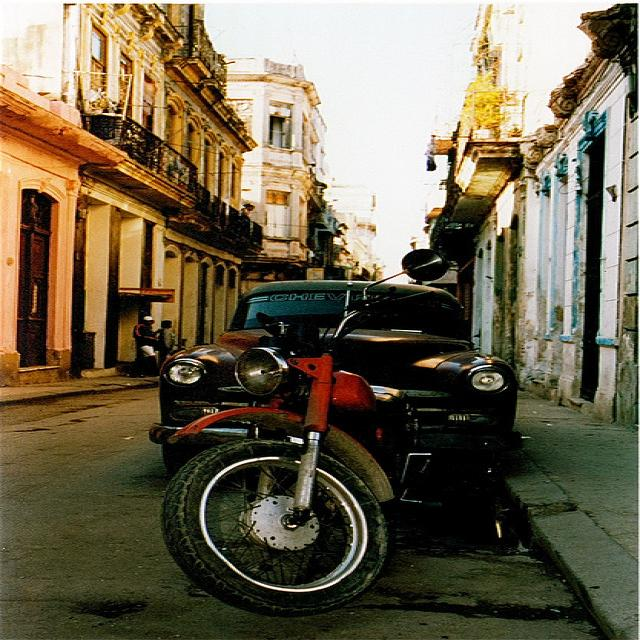motor: (162, 248, 448, 614)
